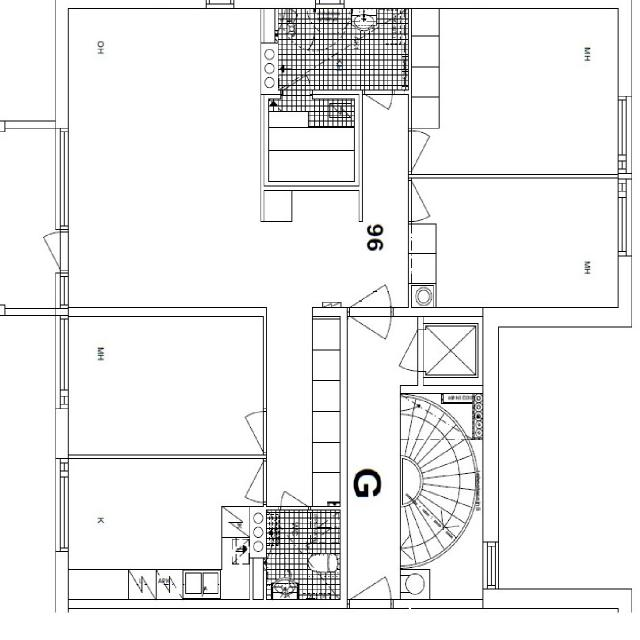door: (349, 260, 391, 316), (349, 307, 391, 363), (21, 232, 68, 270), (225, 411, 266, 453), (226, 461, 266, 503), (408, 180, 448, 222), (408, 131, 448, 171), (280, 474, 308, 510), (283, 61, 309, 99), (364, 90, 392, 125)
